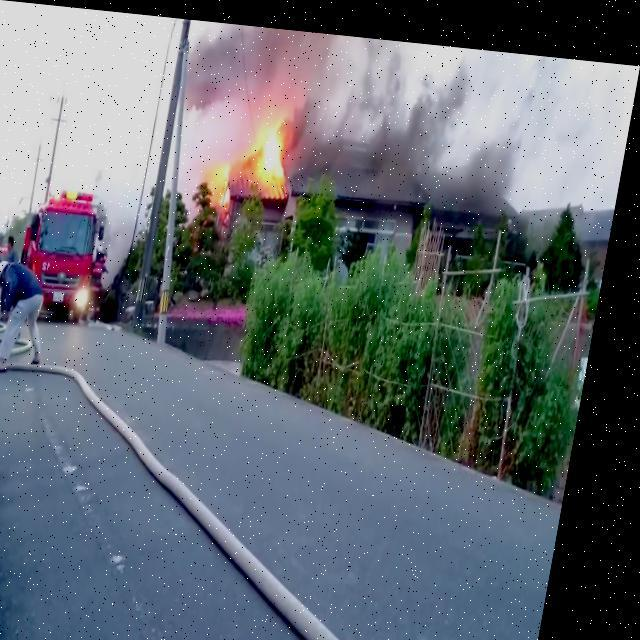Fire: (262, 109, 298, 169), (210, 156, 238, 191)
